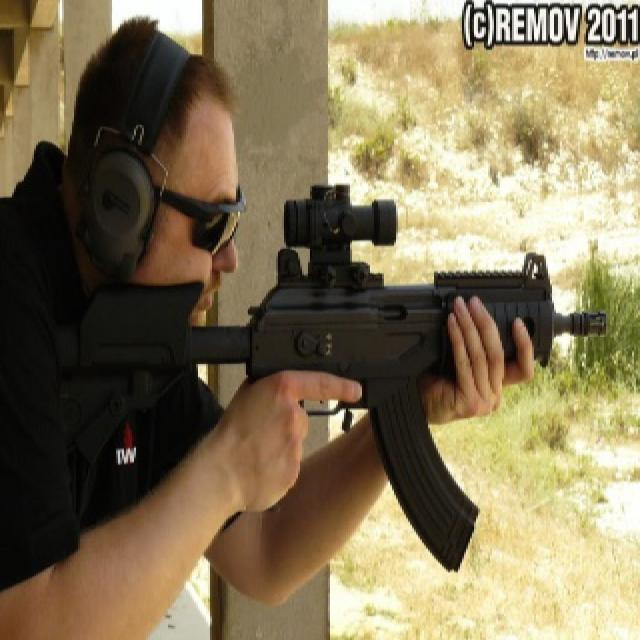heavy-weapon: (94, 176, 608, 569)
